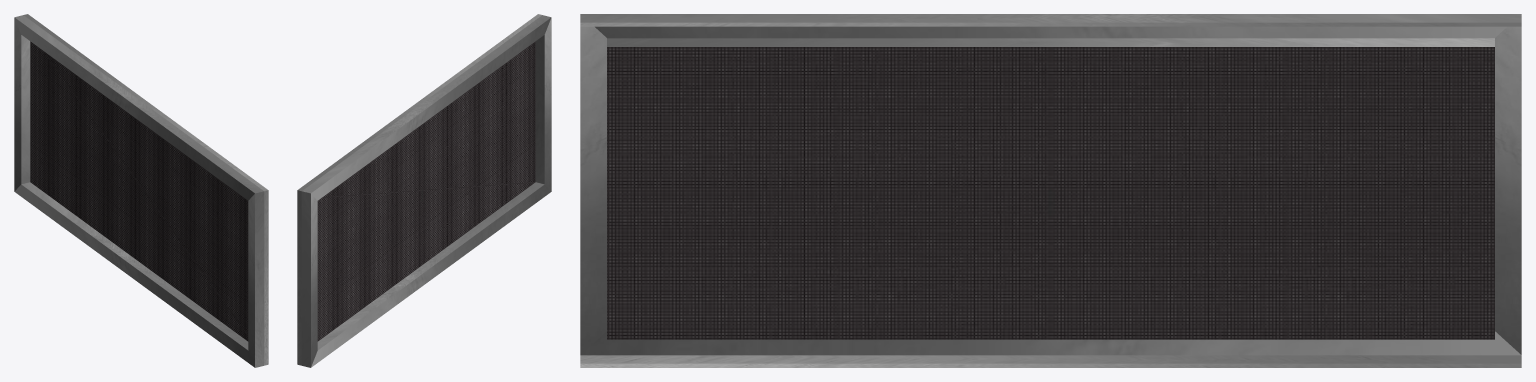
File: MazeGame-Floor-Dislay.glb
3 views of the same model, side by side, from view 1: azimuth 30°, elevation 25°; view 2: azimuth 150°, elevation 25°; view 3: azimuth 270°, elevation 25° (orthographic). The views are drawn at different scales.
Visible parts, largest first — view 1: CurrentFloorInner; view 2: CurrentFloorInner; view 3: CurrentFloorInner.
Boxes of the visible parts, x1,y1,x2,y2 form: CurrentFloorInner: [14, 14, 268, 367]; CurrentFloorInner: [297, 14, 551, 367]; CurrentFloorInner: [580, 14, 1521, 367].
Bounding box in the file's own units: 0.0644 × 0.8 × 2.
1 material, 1 textured.
